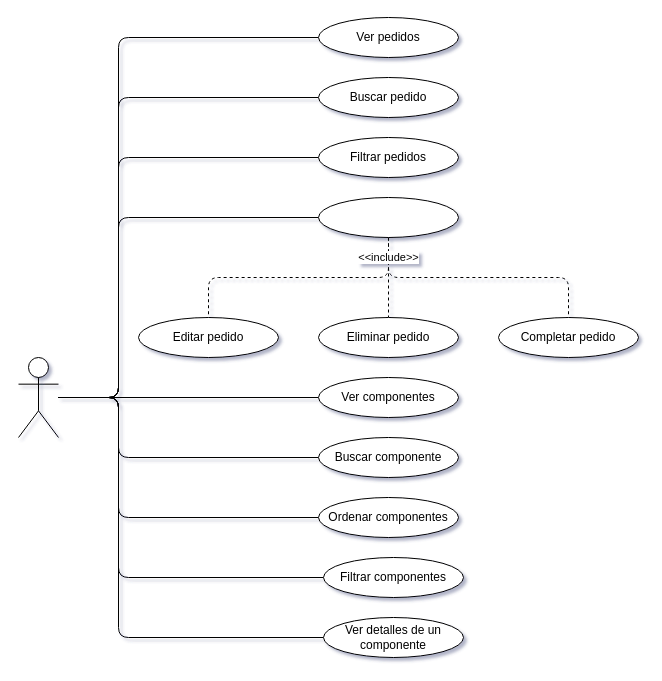
The diagram is 662 pixels wide and 681 high, and some of its shapes have lost their labels. Here are the shapes that lost their labels. From the top down, the centre of each, then its label:
At point 388,217: "Añadir pedido".
At point 38,397: "Jugador".
